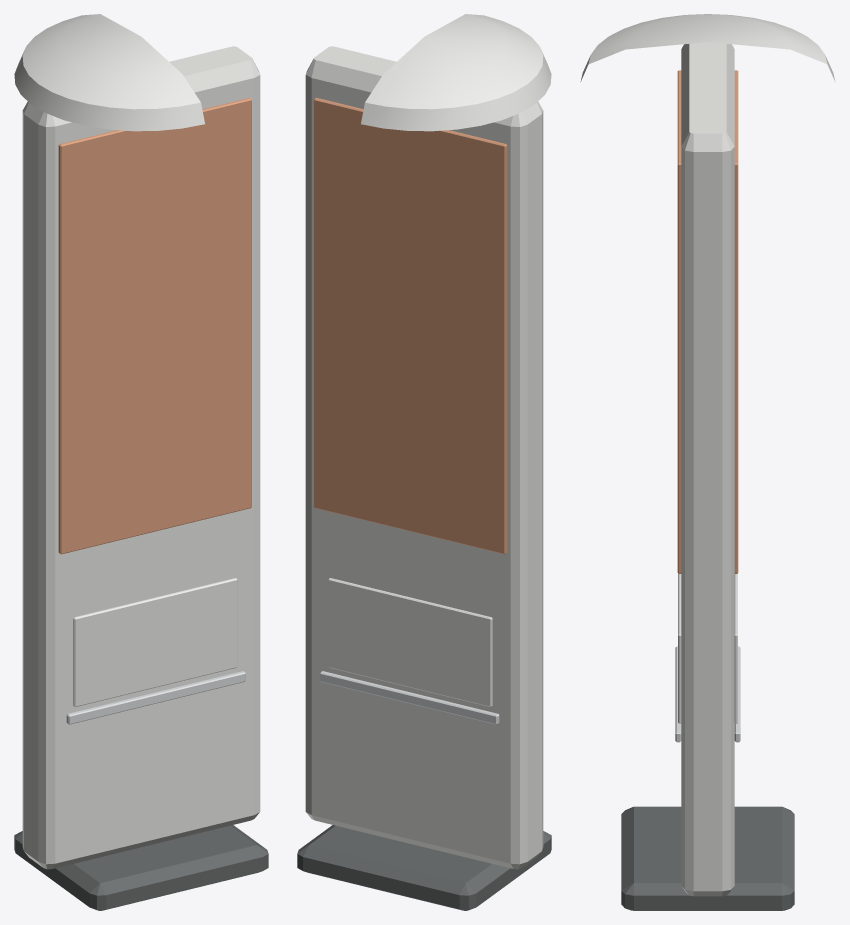
File: garden-centre-and-florist-signage-totem-4a50b112__17784.glb
3 renders of one model, left to right at view 1: azimuth 30°, elevation 25°; view 2: azimuth 150°, elevation 25°; view 3: azimuth 270°, elevation 25°, orthographic.
Parts seen in each view (by area): view 1: signage-totem; view 2: signage-totem; view 3: signage-totem.
Boxes of the visible parts, x1,y1,x2,y2 form: signage-totem: (14,14,268,910); signage-totem: (297,14,551,910); signage-totem: (580,14,835,910).
Bounding box in the file's own units: 0.62 × 2.22 × 0.62.
